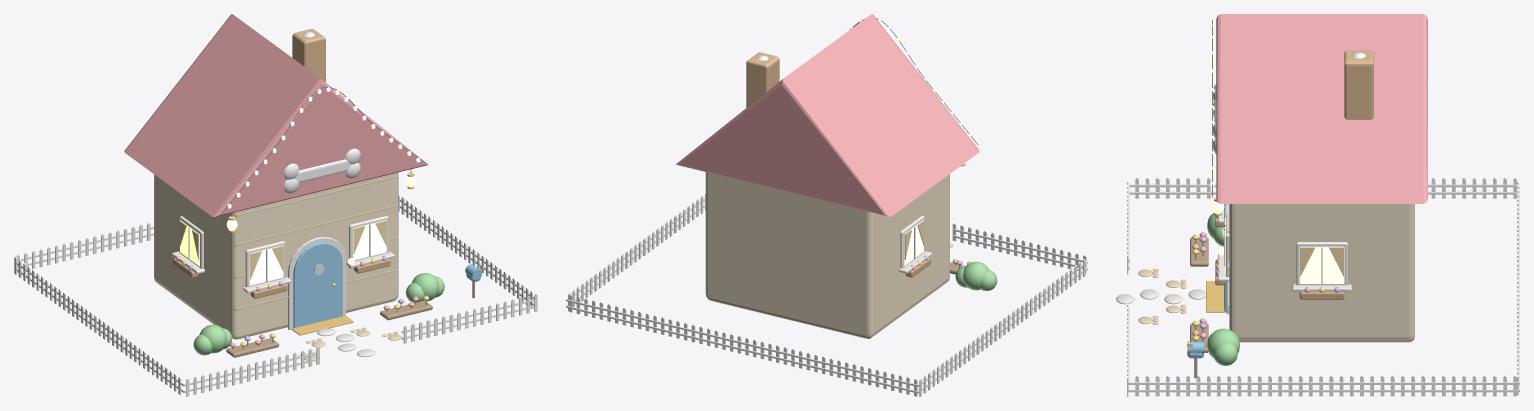
Rendered from building_pets_L09.glb.
3 views of the same model, side by side, from view 1: azimuth 30°, elevation 25°; view 2: azimuth 150°, elevation 25°; view 3: azimuth 270°, elevation 25° (orthographic). The views are drawn at different scales.
Parts seen in each view (by area): view 1: Body, pets_L9; view 2: Body, pets_L9; view 3: Body, pets_L9.
Boxes of the visible parts, left/top/right/bottom form: Body: left=124, top=14, right=428, bottom=360; pets_L9: left=14, top=32, right=537, bottom=396; Body: left=676, top=14, right=979, bottom=338; pets_L9: left=566, top=55, right=1087, bottom=396; Body: left=1138, top=14, right=1427, bottom=342; pets_L9: left=1116, top=52, right=1519, bottom=396.
Bounding box in the file's own units: 25.35 × 17.03 × 21.74.
